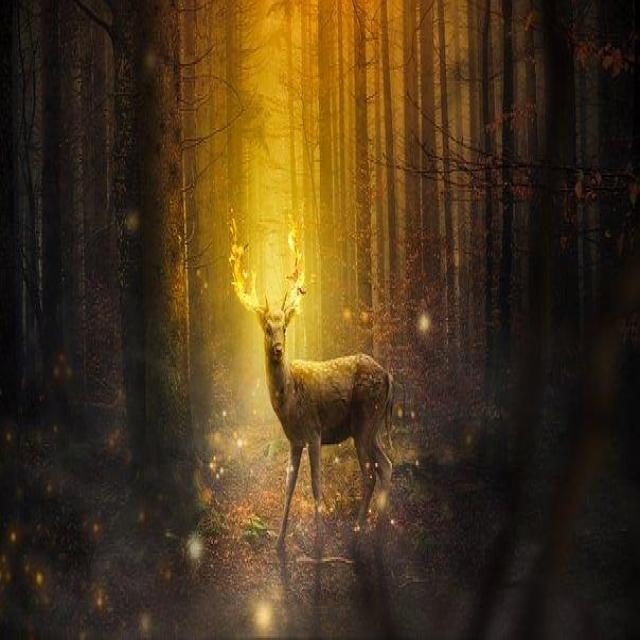fire: (225, 227, 261, 319), (282, 220, 310, 318)
smoke: (241, 1, 317, 221)
